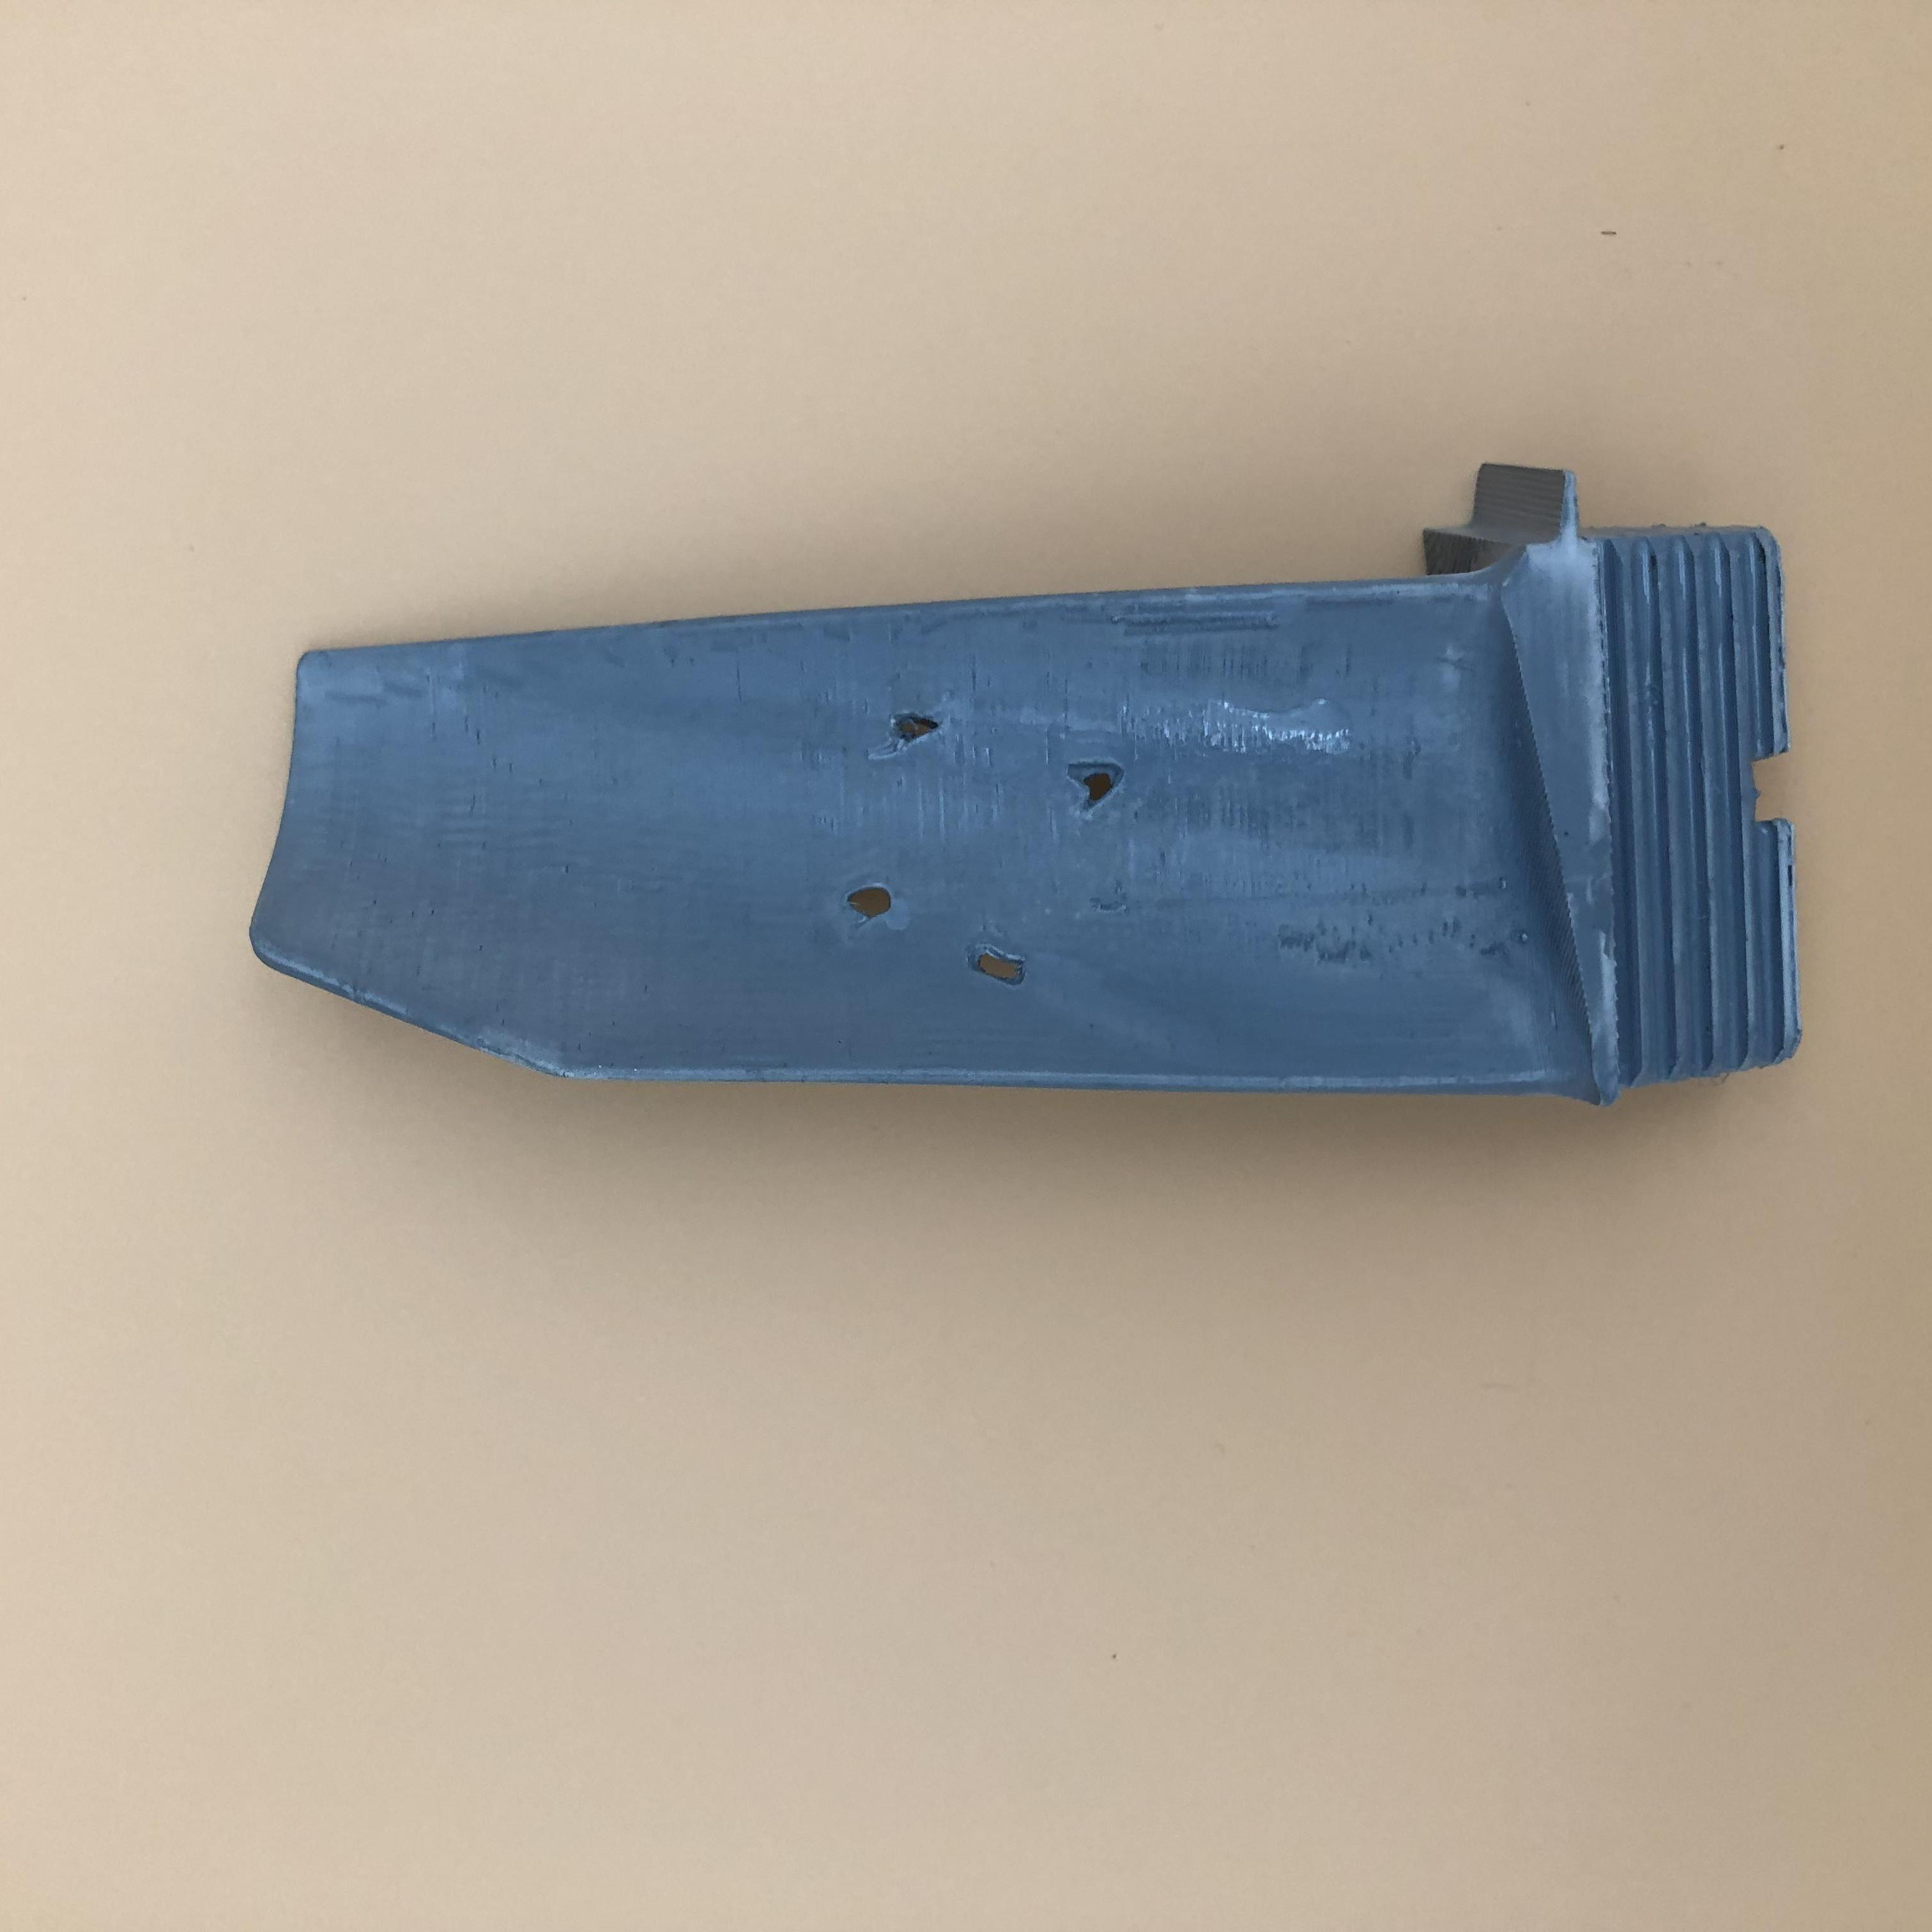breakdown: (883, 701, 1134, 814), (851, 883, 1035, 996)
